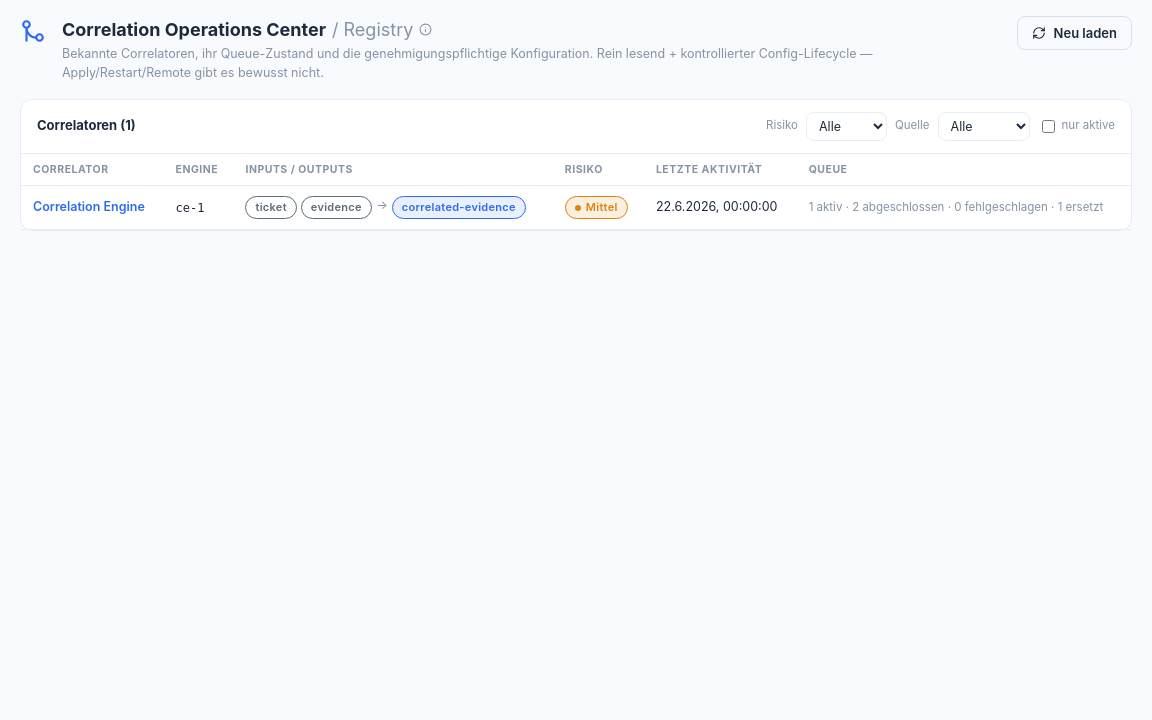
it: CorrelatorsPage — Detailansicht › zeigt Jobs, Results, Audit und Config-Status
Click the text "Correlation Engine": (92, 208) [21,186,164,229]
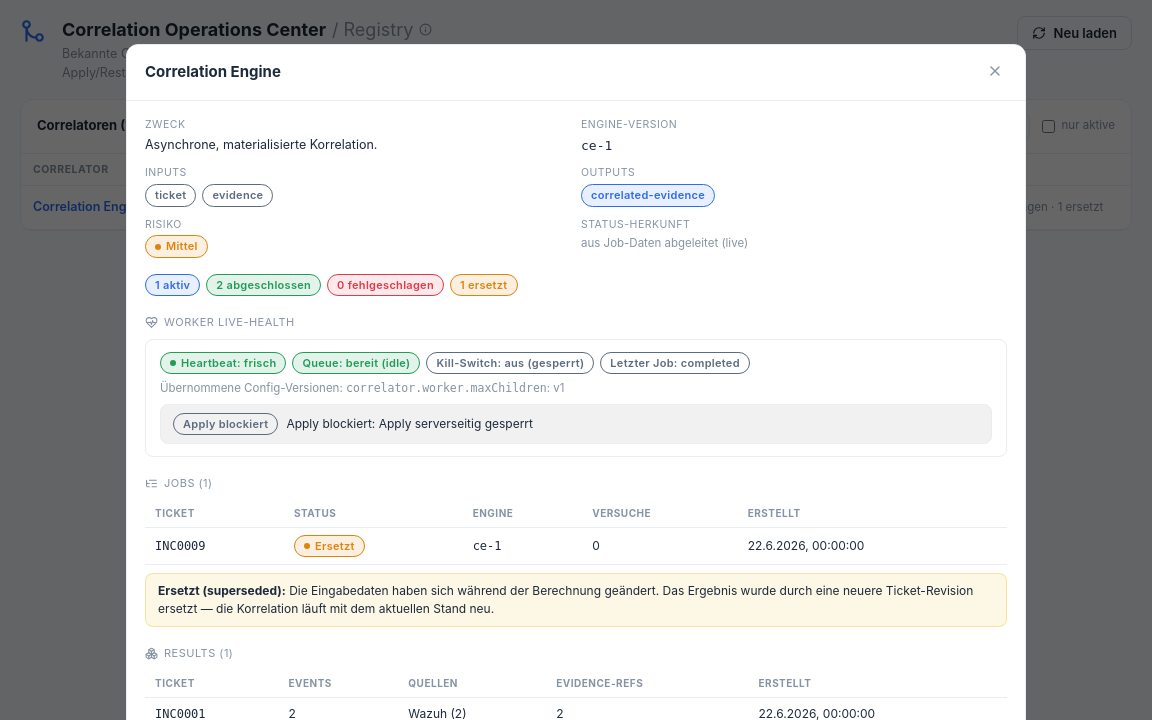
expect the text "Jobs (1)" is shown: met, box [145,476,213,490]
expect the text "INC0009" is shown: met, box [145,527,284,564]
expect the text "Ersetzt" is shown: met, box [294,534,365,557]
